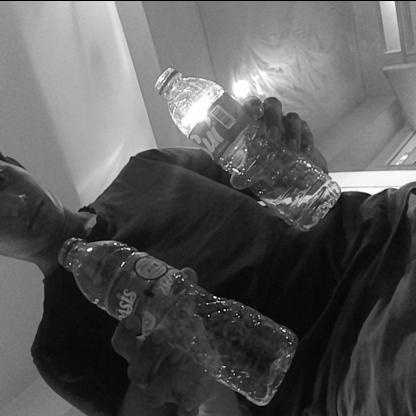plastic_bottles: (56, 232, 286, 394), (150, 60, 342, 228)
